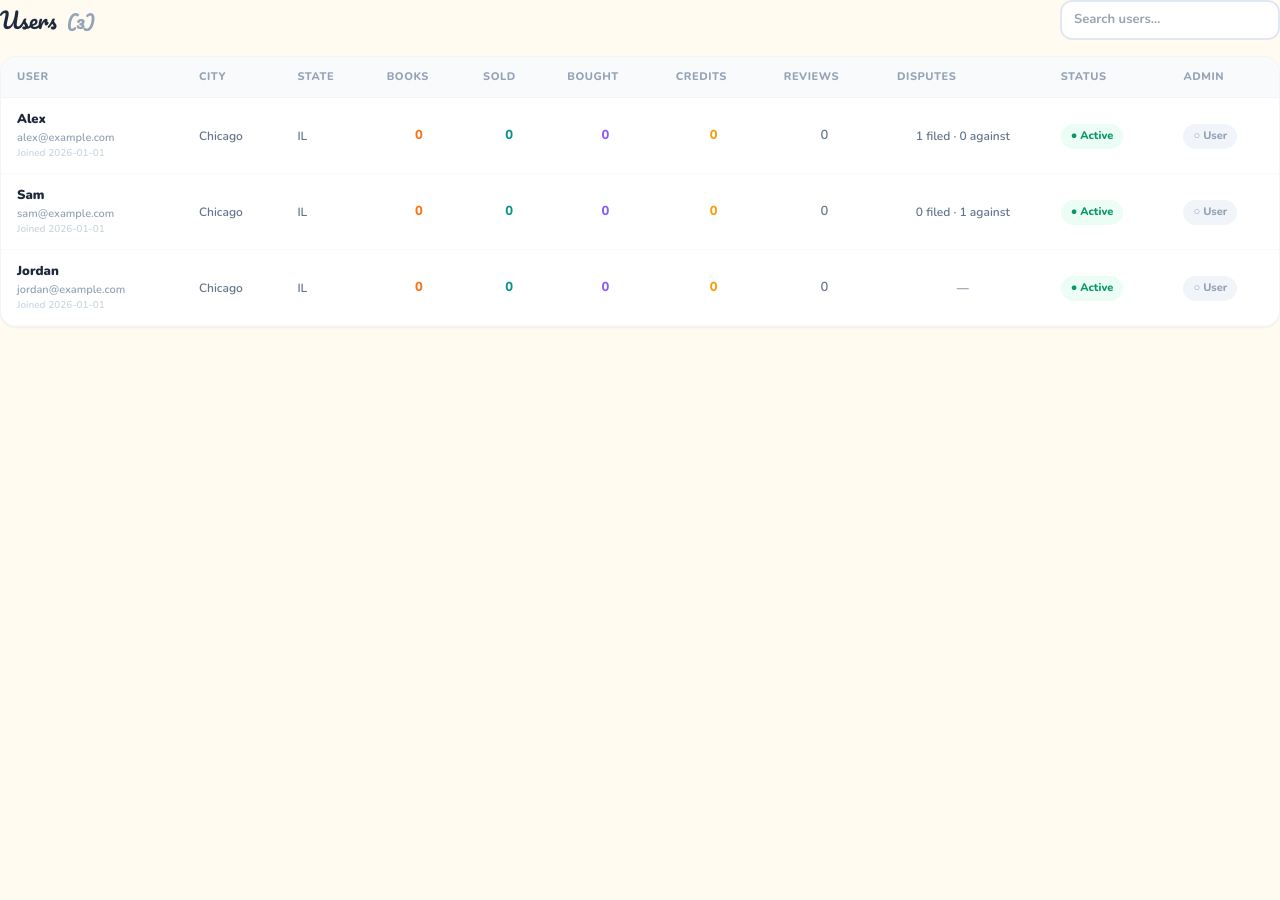
Scenario: UsersTab › shows "No disputes." for a user with none
The image size is (1280, 900).
Click the row that starts with "Jordan" at (640, 288), box left=1, top=250, right=1279, bottom=326
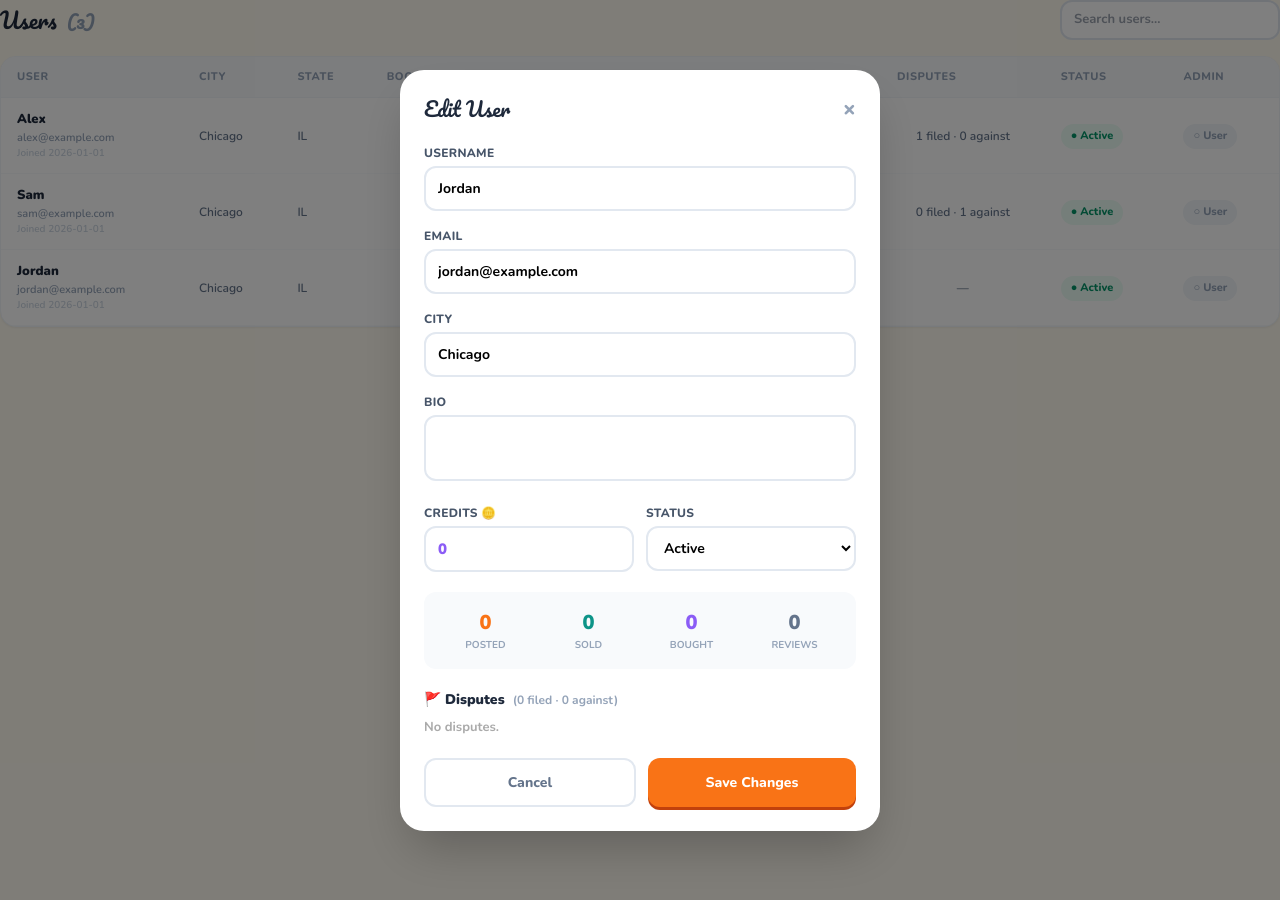
Check: the text "No disputes." is shown, box left=424, top=718, right=499, bottom=736
